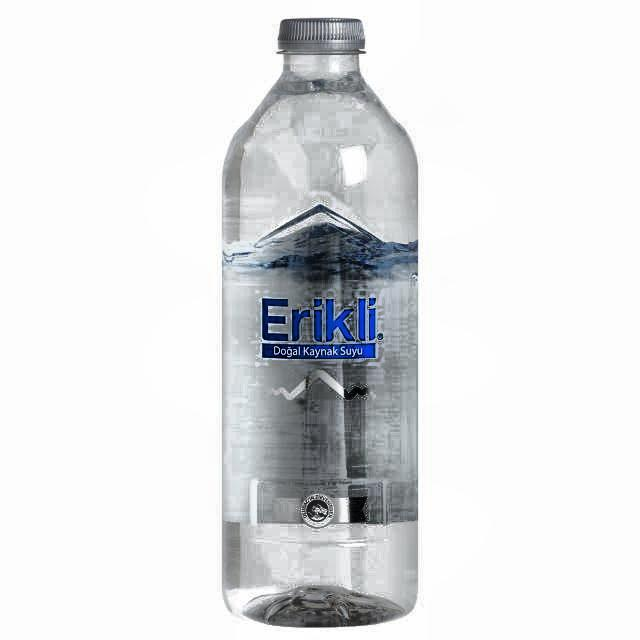plastic: (220, 16, 422, 639)
